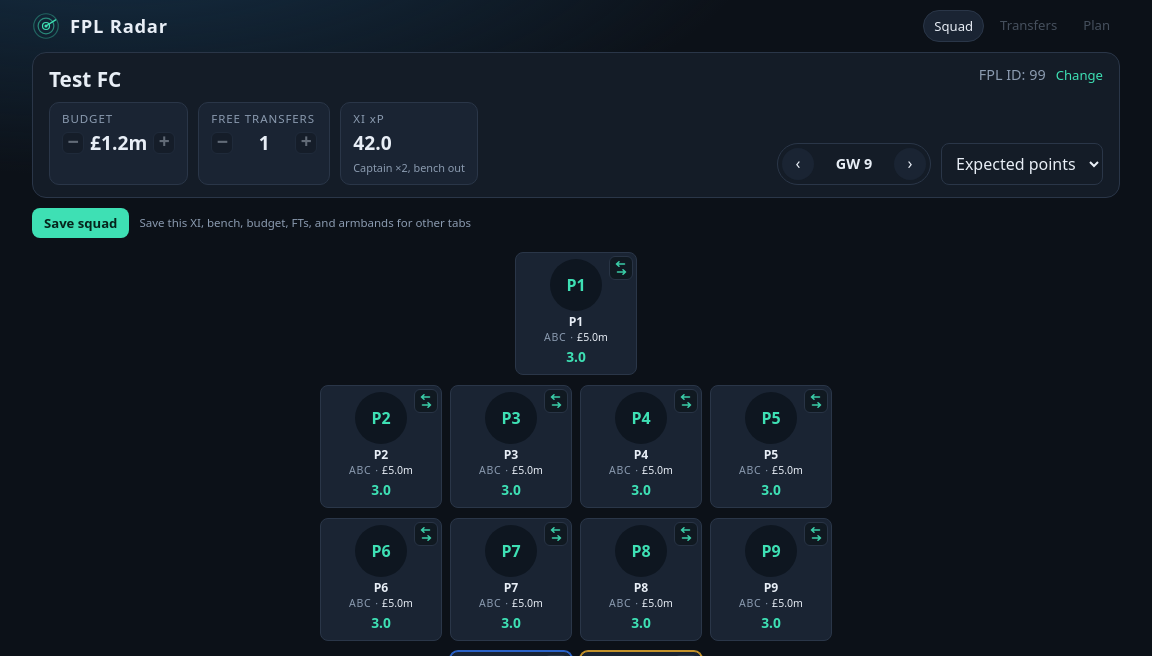
Test case: SquadBoard substitutions › puts a swap button on every card, then hides them all after one is pressed
Click the button named "Substitute P2": click(426, 401) left=414, top=389, right=438, bottom=413
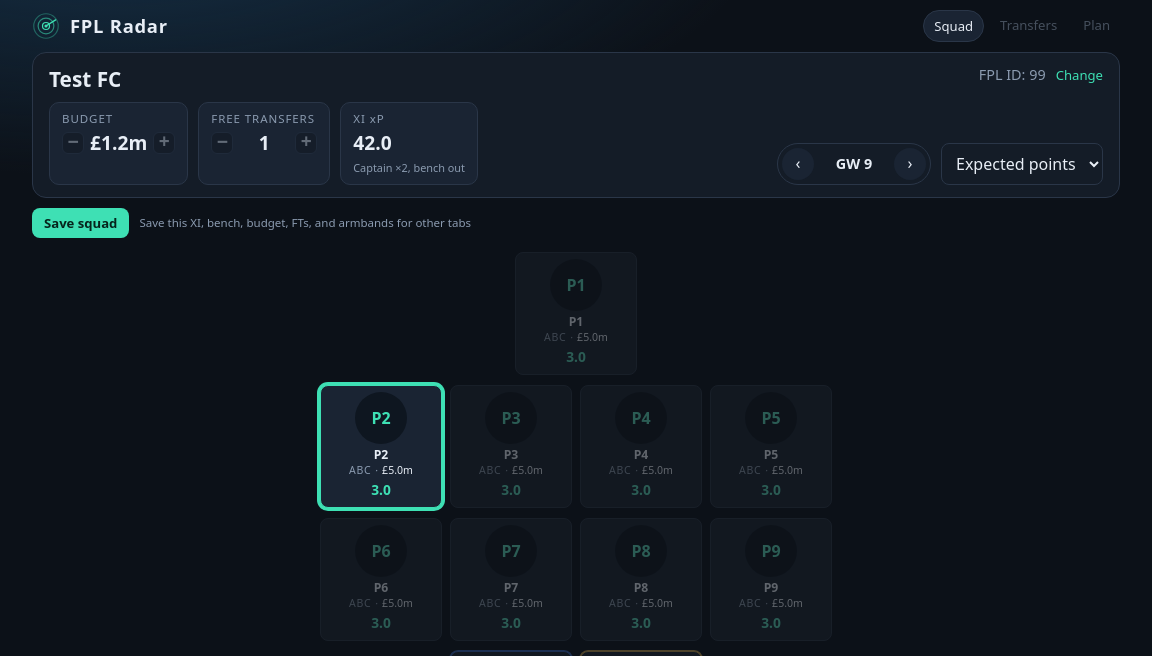
Expected: no buttons "Substitute " are shown
